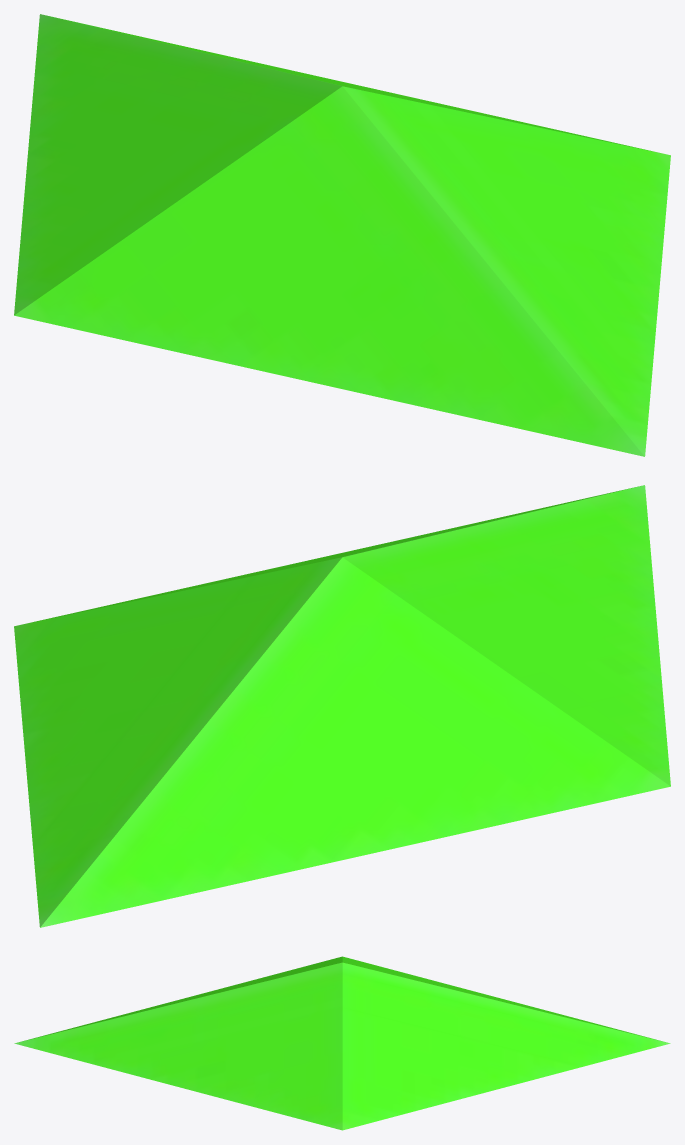
File: gem02-art.glb
3 views of the same model, one above another, from view 1: azimuth 30°, elevation 25°; view 2: azimuth 150°, elevation 25°; view 3: azimuth 270°, elevation 25° (orthographic). The views are drawn at different scales.
Visible parts, largest first — view 1: Gem02_Art; view 2: Gem02_Art; view 3: Gem02_Art.
Boxes of the visible parts, <box> form: Gem02_Art: <box>14,14,670,456</box>; Gem02_Art: <box>14,485,670,927</box>; Gem02_Art: <box>14,956,670,1130</box>.
Bounding box in the file's own units: 0.1994 × 0.0865 × 0.3181.
1 material, 1 textured.
